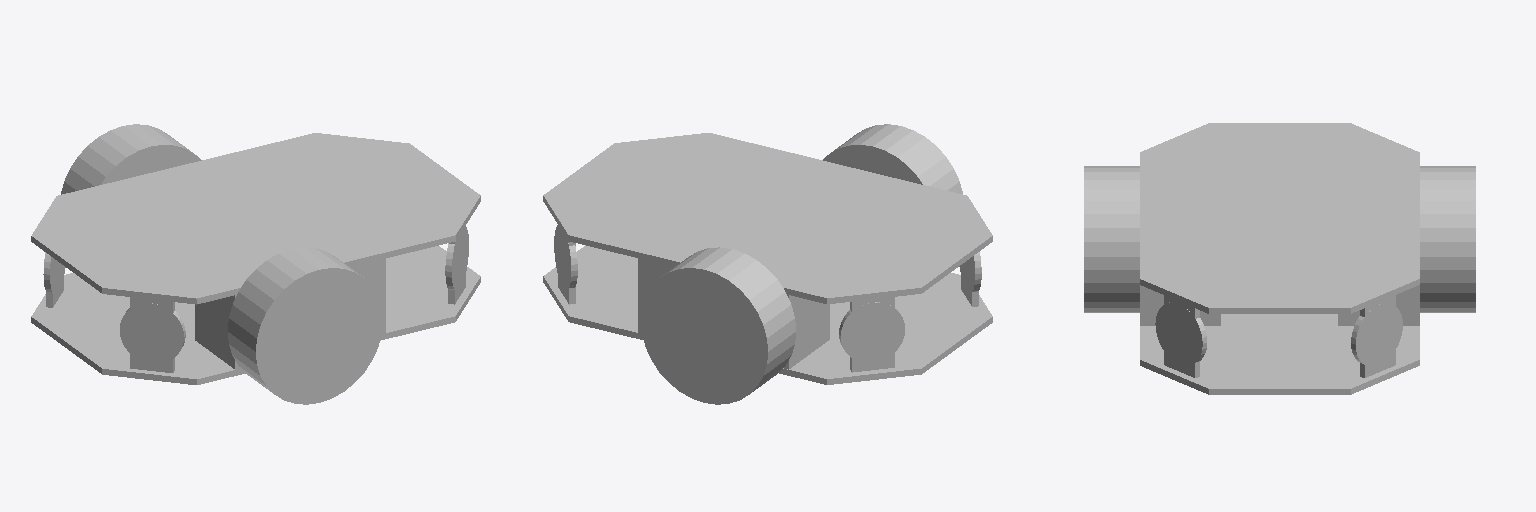
Rendered from robot.obj.
3 views of the same model, side by side, from view 1: azimuth 30°, elevation 25°; view 2: azimuth 150°, elevation 25°; view 3: azimuth 270°, elevation 25° (orthographic).
Parts seen in each view (by area): view 1: Top_Baseboard_Plane.004, Cylinder.004, Bottom_Baseboard_Plane.002, Cylinder.005_Cylinder.003, Cylinder.003_Cylinder.002, Plane.005_Plane.001, Cylinder_Cylinder.007, Plane_Plane.005; view 2: Top_Baseboard_Plane.004, Cylinder.005_Cylinder.003, Bottom_Baseboard_Plane.002, Cylinder.004, Cylinder.002_Cylinder.001, Plane.004_Plane, Cylinder.001_Cylinder.008, Plane.001_Plane.006; view 3: Top_Baseboard_Plane.004, Bottom_Baseboard_Plane.002, Cylinder.005_Cylinder.003, Cylinder.004, Cylinder.001_Cylinder.008, Cylinder_Cylinder.007, Plane.004_Plane, Plane.005_Plane.001, Plane.002_Plane.007, Plane.003_Plane.008.
Part boxes in pixels (x1,y1,x2,y2): Top_Baseboard_Plane.004: (31,133,480,304); Cylinder.004: (228,247,382,404); Bottom_Baseboard_Plane.002: (31,246,480,384); Cylinder.005_Cylinder.003: (61,124,201,194); Cylinder.003_Cylinder.002: (120,303,185,363); Plane.005_Plane.001: (195,259,385,369); Cylinder_Cylinder.007: (445,226,468,290); Plane_Plane.005: (130,297,174,372); Top_Baseboard_Plane.004: (543,133,992,303); Cylinder.005_Cylinder.003: (641,247,795,404); Bottom_Baseboard_Plane.002: (543,245,992,384); Cylinder.004: (823,124,962,193); Cylinder.002_Cylinder.001: (839,302,904,362); Plane.004_Plane: (638,258,829,369); Cylinder.001_Cylinder.008: (554,225,577,290); Plane.001_Plane.006: (850,297,894,372); Top_Baseboard_Plane.004: (1140,123,1419,313); Bottom_Baseboard_Plane.002: (1140,314,1419,394); Cylinder.005_Cylinder.003: (1420,166,1475,312); Cylinder.004: (1084,166,1139,312); Cylinder.001_Cylinder.008: (1351,303,1402,366); Cylinder_Cylinder.007: (1155,302,1206,365); Plane.004_Plane: (1338,285,1419,325); Plane.005_Plane.001: (1140,285,1220,325); Plane.002_Plane.007: (1164,295,1199,377); Plane.003_Plane.008: (1360,295,1395,377).
Size of the model in its own units: 0.196 by 0.066 by 0.1762.